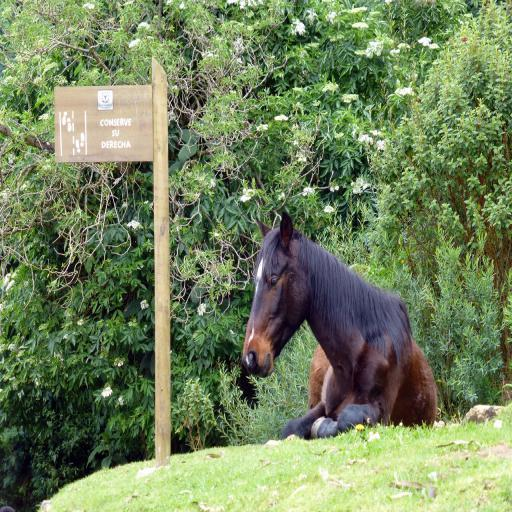horse: (238, 206, 440, 439)
